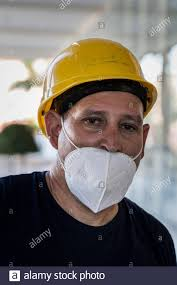Helmet: (34, 40, 160, 118)
Mask: (56, 141, 137, 222)
